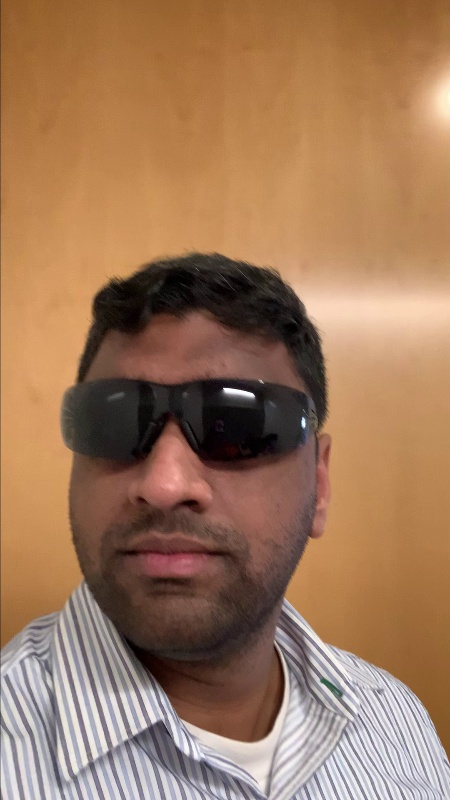glasses: (52, 378, 323, 464)
